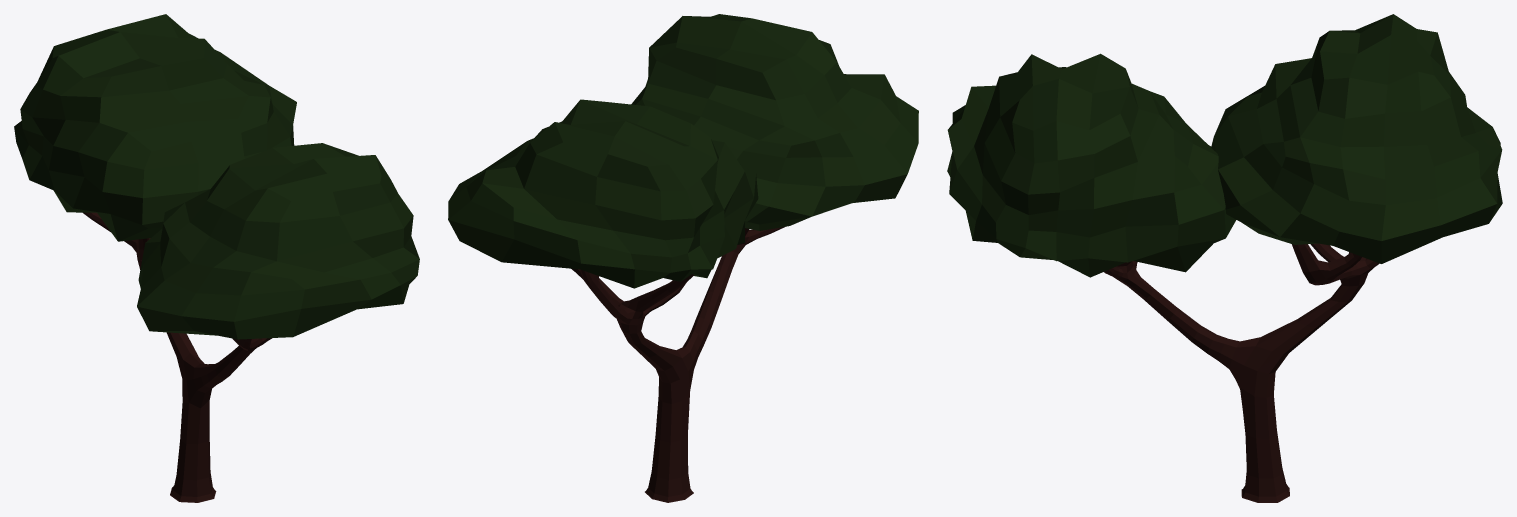
The model's file is CommonTree_1.glb.
3 renders of one model, left to right at view 1: azimuth 30°, elevation 25°; view 2: azimuth 150°, elevation 25°; view 3: azimuth 270°, elevation 25°, orthographic. The views are drawn at different scales.
Parts seen in each view (by area): view 1: CommonTree_1_Cube.049; view 2: CommonTree_1_Cube.049; view 3: CommonTree_1_Cube.049.
Part boxes in pixels (bbox=[...]): CommonTree_1_Cube.049: bbox=[14, 14, 419, 502]; CommonTree_1_Cube.049: bbox=[448, 14, 918, 502]; CommonTree_1_Cube.049: bbox=[947, 14, 1502, 502].
Bounding box in the file's own units: 1.89 × 2.48 × 2.77.
